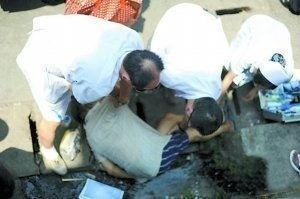Fall-Detected: (61, 80, 234, 199)
